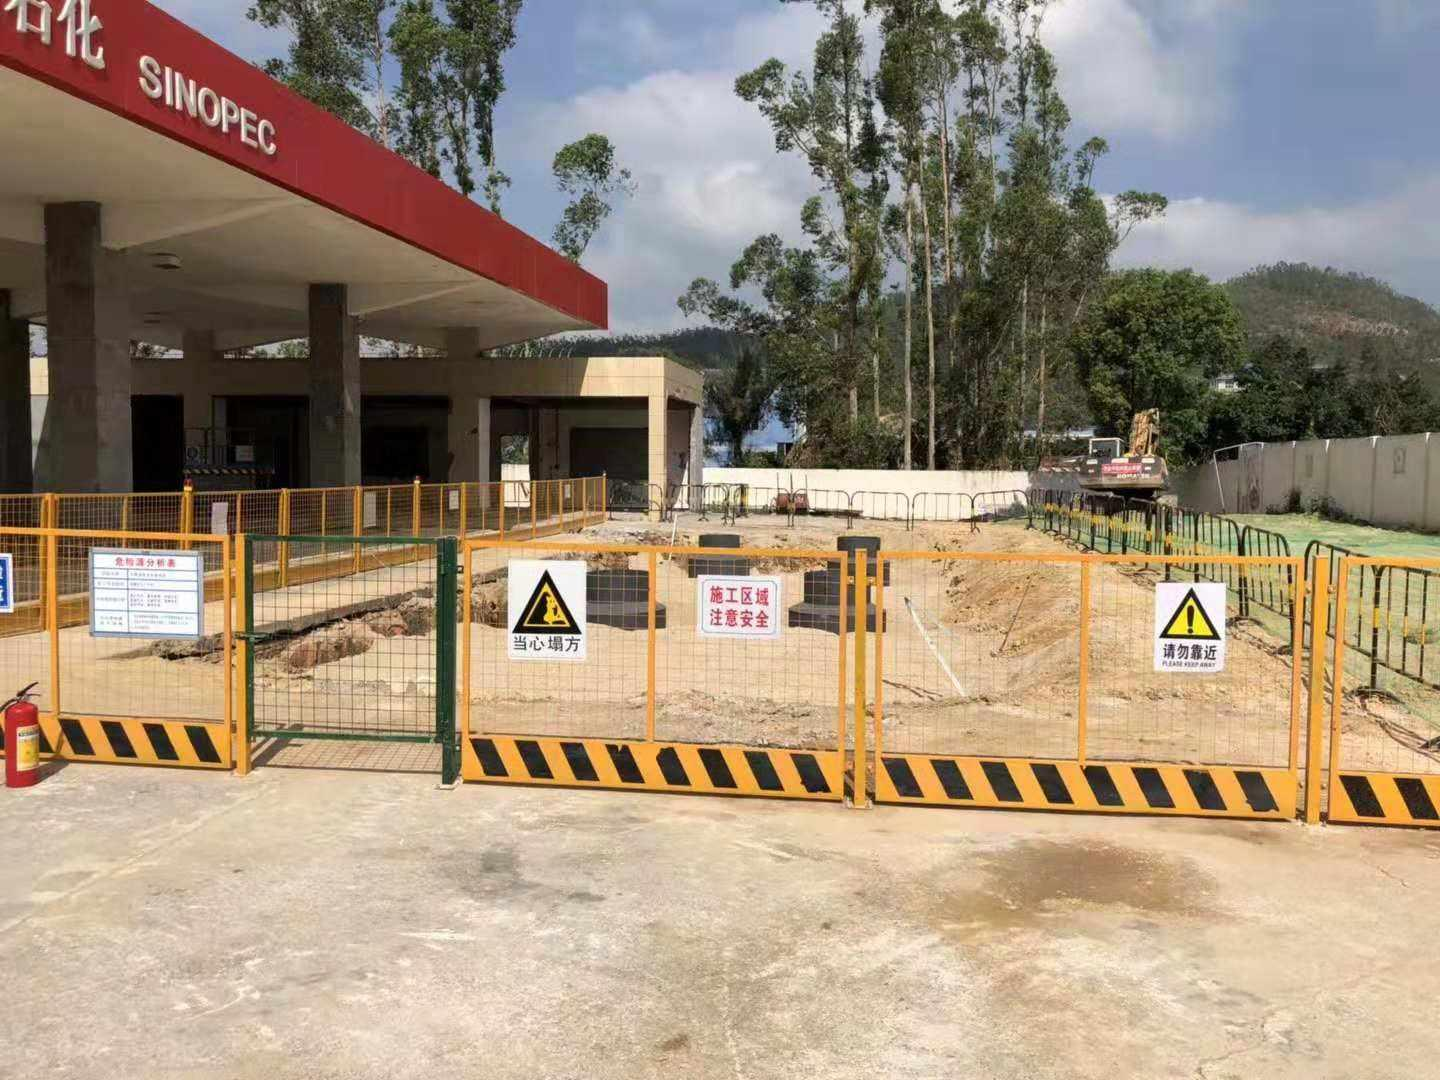sign: (33, 505, 1433, 832)
